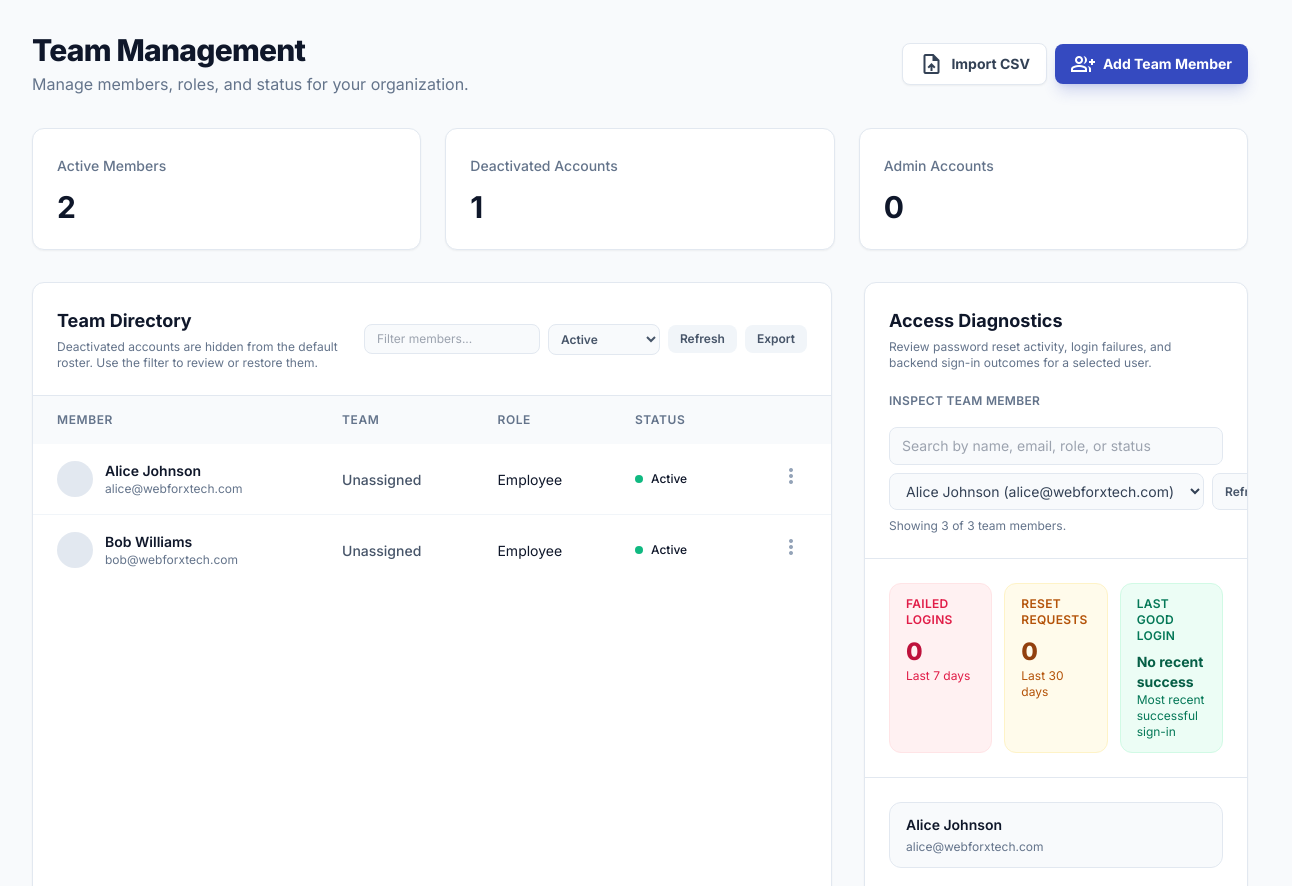
Team access diagnostics search › filters diagnostics user options by search text
In the field named "search access diagnostics users": (1056, 446) left=889, top=427, right=1223, bottom=465, type "carla"
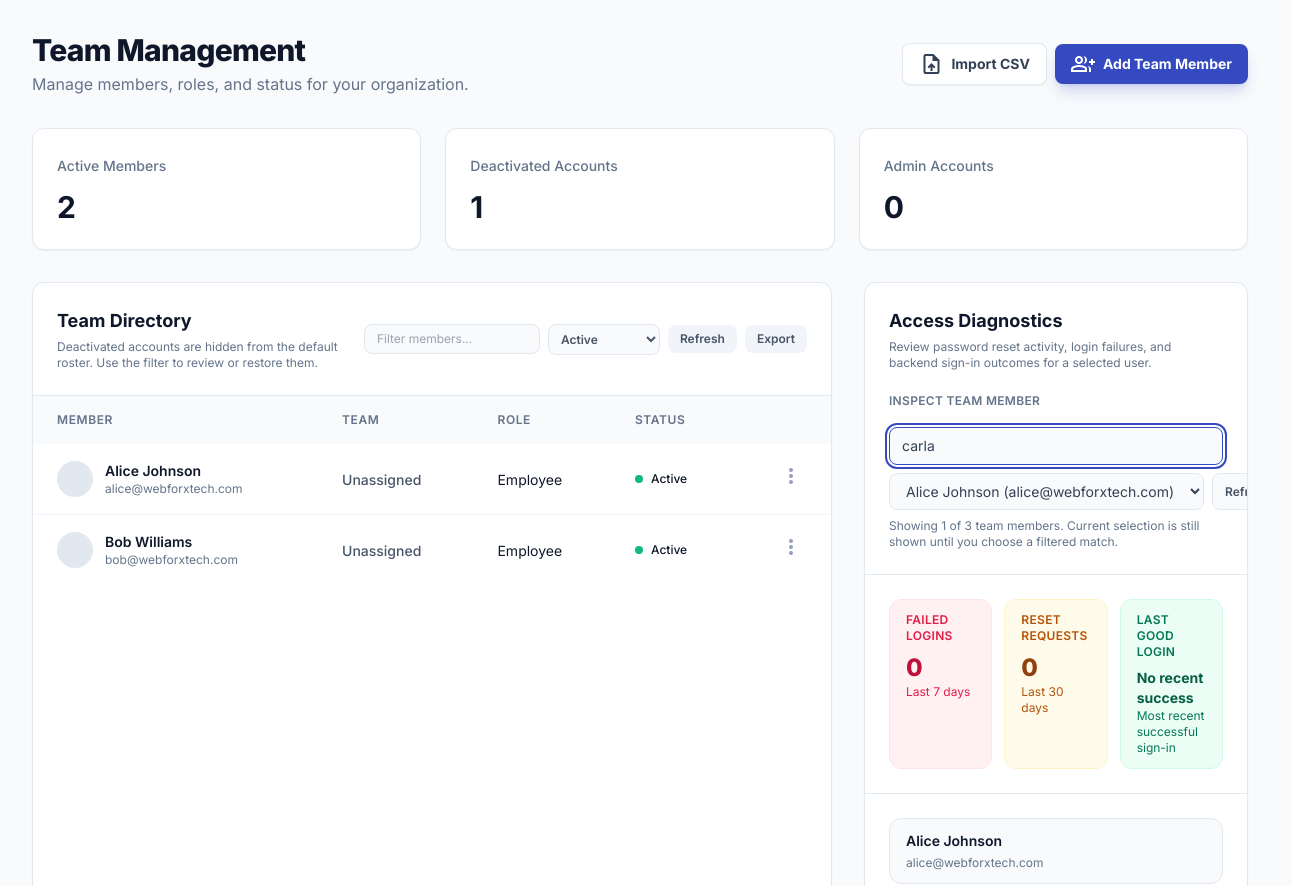
Expected: the text "Showing 1 of 3 team members. Current selection is still shown until you choose a filtered match." is shown, left=889, top=518, right=1223, bottom=550
